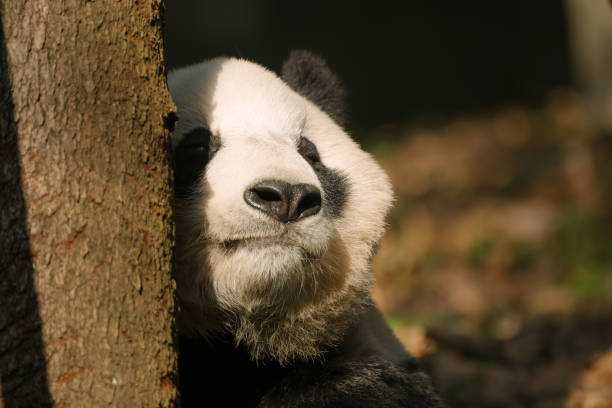panda: (133, 13, 446, 372)
